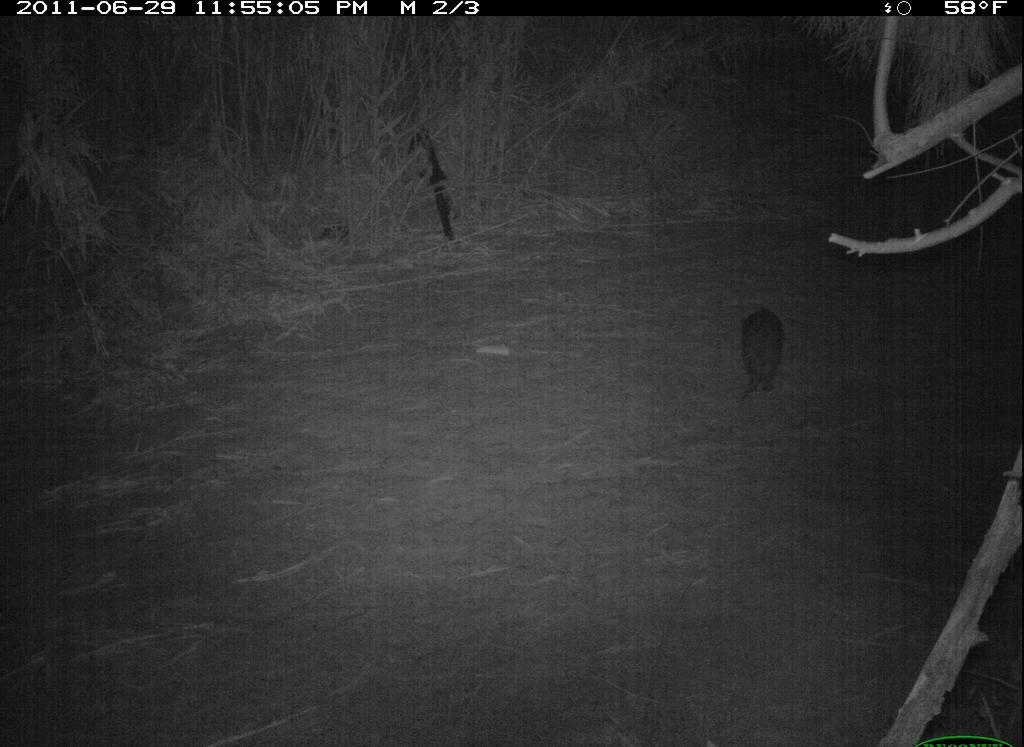raccoon: (726, 290, 809, 424)
